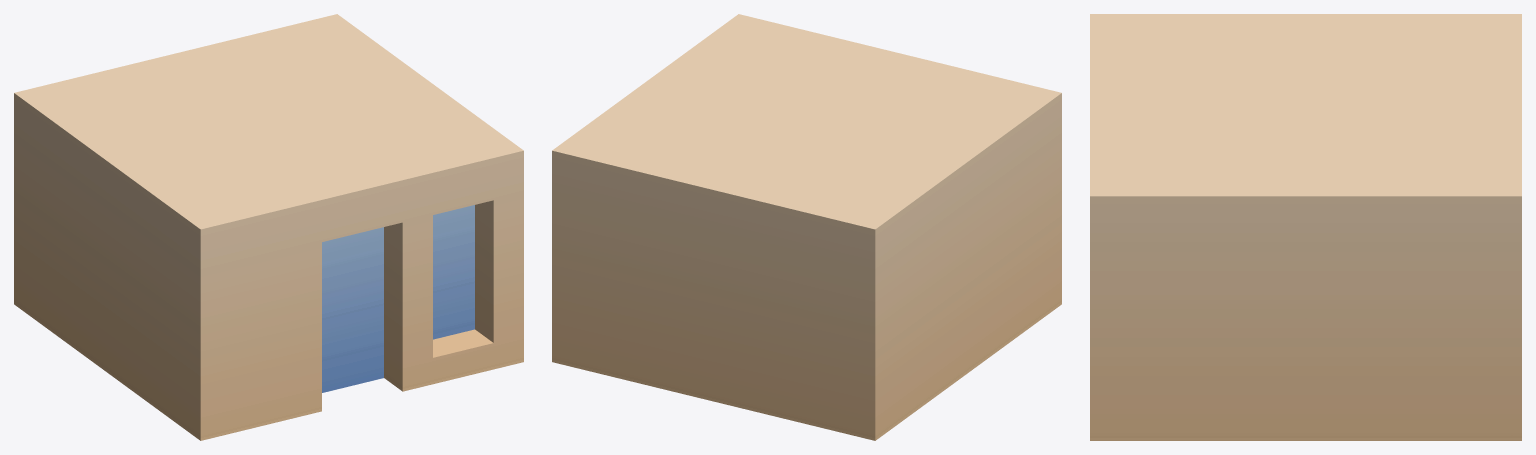
Rendered from building-door-window-narrow.glb.
The picture shows the model from 3 angles, left to right: view 1: azimuth 30°, elevation 25°; view 2: azimuth 150°, elevation 25°; view 3: azimuth 270°, elevation 25°; orthographic projection. The views are drawn at different scales.
Visible parts, largest first — view 1: building-door-window-narrow; view 2: building-door-window-narrow; view 3: building-door-window-narrow.
Boxes of the visible parts, x1=… form: building-door-window-narrow: x1=14, y1=14, x2=523, y2=440; building-door-window-narrow: x1=552, y1=14, x2=1061, y2=440; building-door-window-narrow: x1=1090, y1=14, x2=1521, y2=440.
Bounding box in the file's own units: 1 × 0.625 × 1.
Materials: 1 (1 with a texture image).
